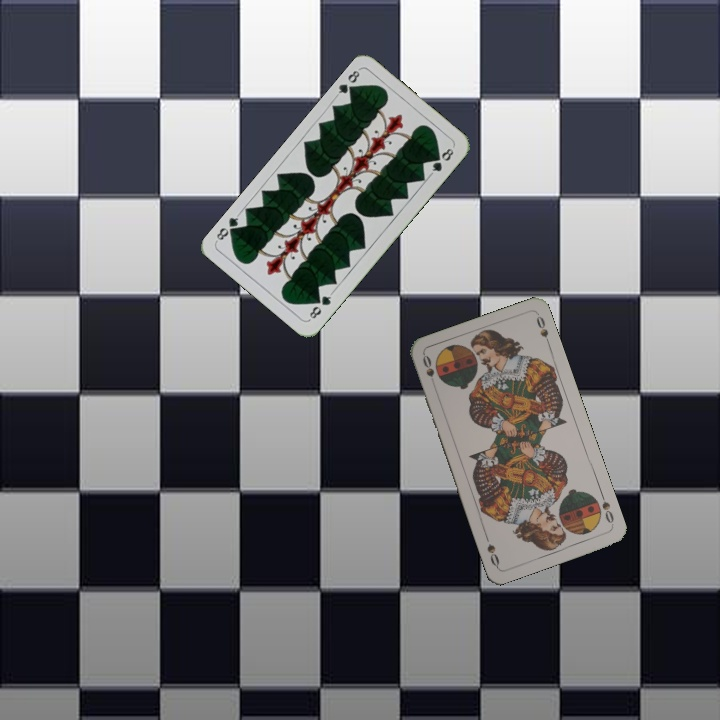G8: (305, 288, 335, 322), (332, 65, 362, 99)
SO: (419, 351, 439, 391), (596, 489, 616, 528)
